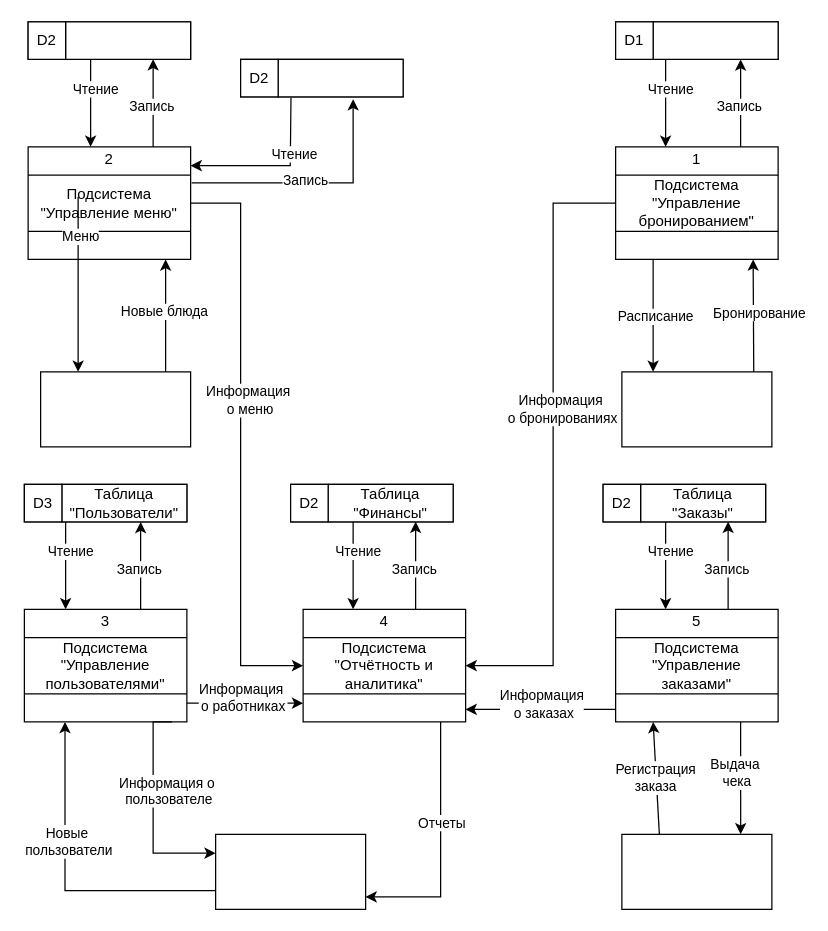
The diagram is 828 pixels wide and 931 high, and some of its shapes have lost their labels. The shapes that lost their labels are listed below. From the top down, each one's centre as x and y in pixels, then its label:
(x=127, y=40): Таблица "Блюда"
(x=715, y=40): Таблица "Бронирования"
(x=340, y=77): Таблица "Напитки"
(x=115, y=409): Шеф-повар
(x=696, y=409): Администратор
(x=290, y=871): Директор
(x=696, y=871): Официант
